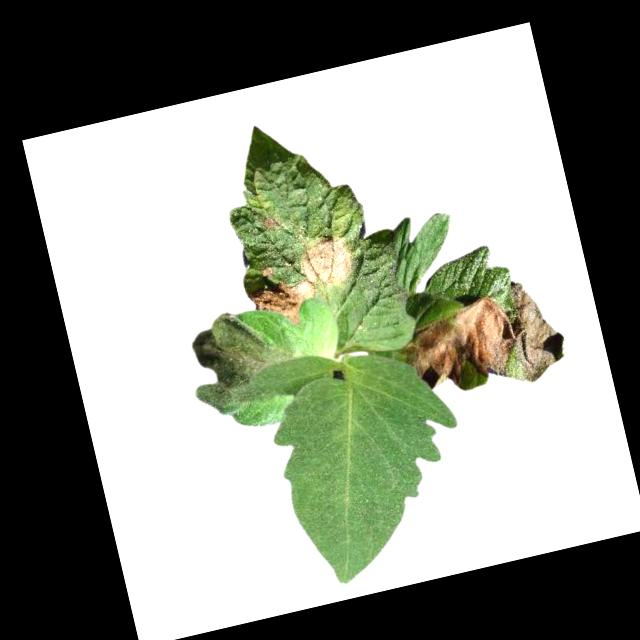Late_blight: (391, 273, 573, 410), (179, 298, 306, 417), (239, 231, 364, 333), (262, 212, 280, 226)
healthy: (228, 327, 489, 600)
